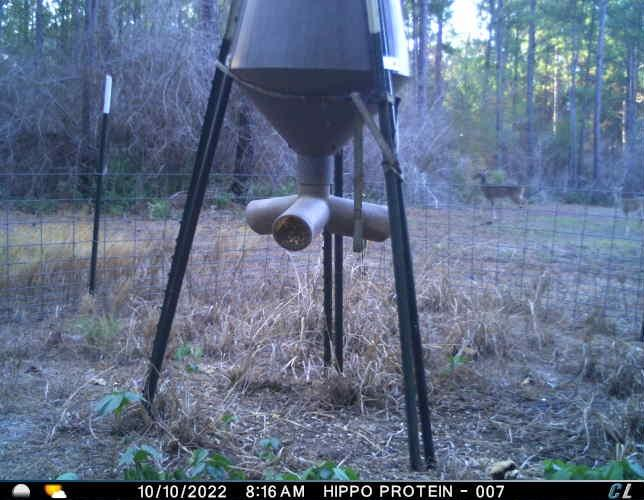Deer: (471, 165, 527, 222), (609, 181, 644, 239)
